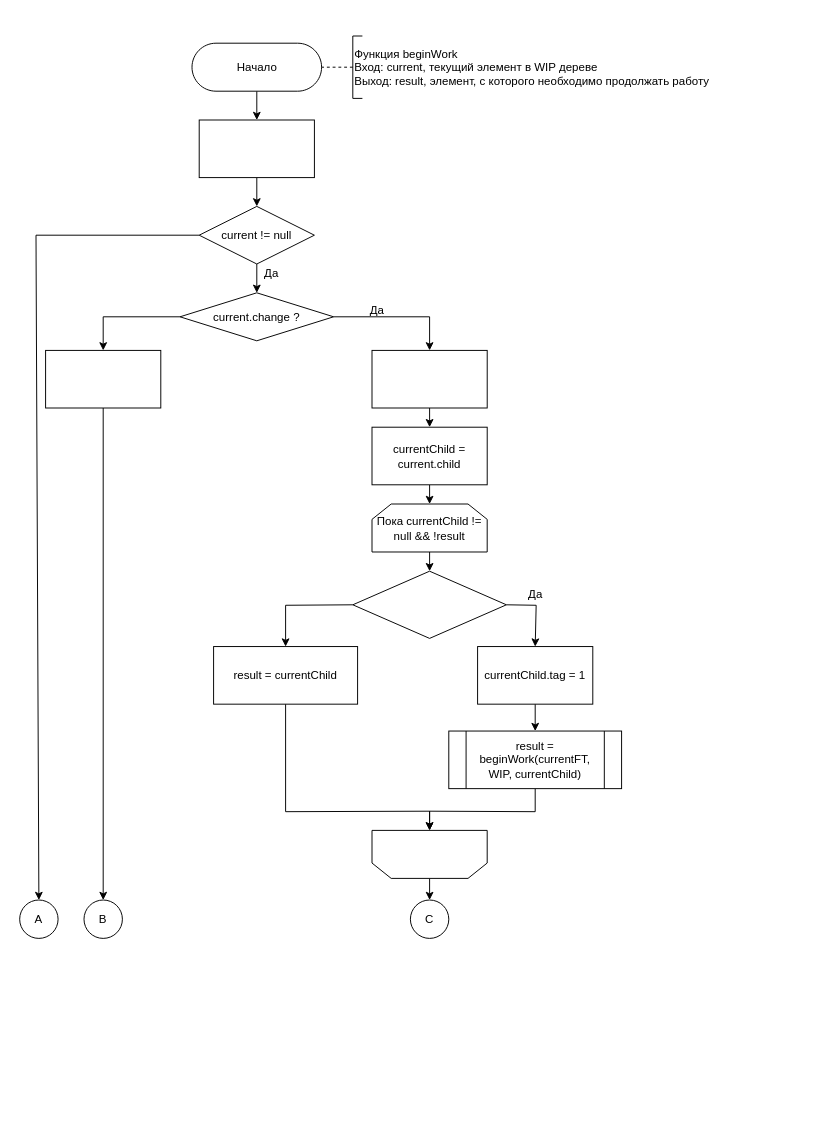
Image size: 820x1146. Some labels were removed from this diagram. Here are the shapes that lost their labels. From the top down, the centre of each, then its label:
At [256,148]: "result = null".
At [103,378]: "result = current".
At [429,378]: "current.tag = 1".
At [429,604]: "currentChild.change ?".
At [429,853]: "currentChild = currentChild.sibling".
